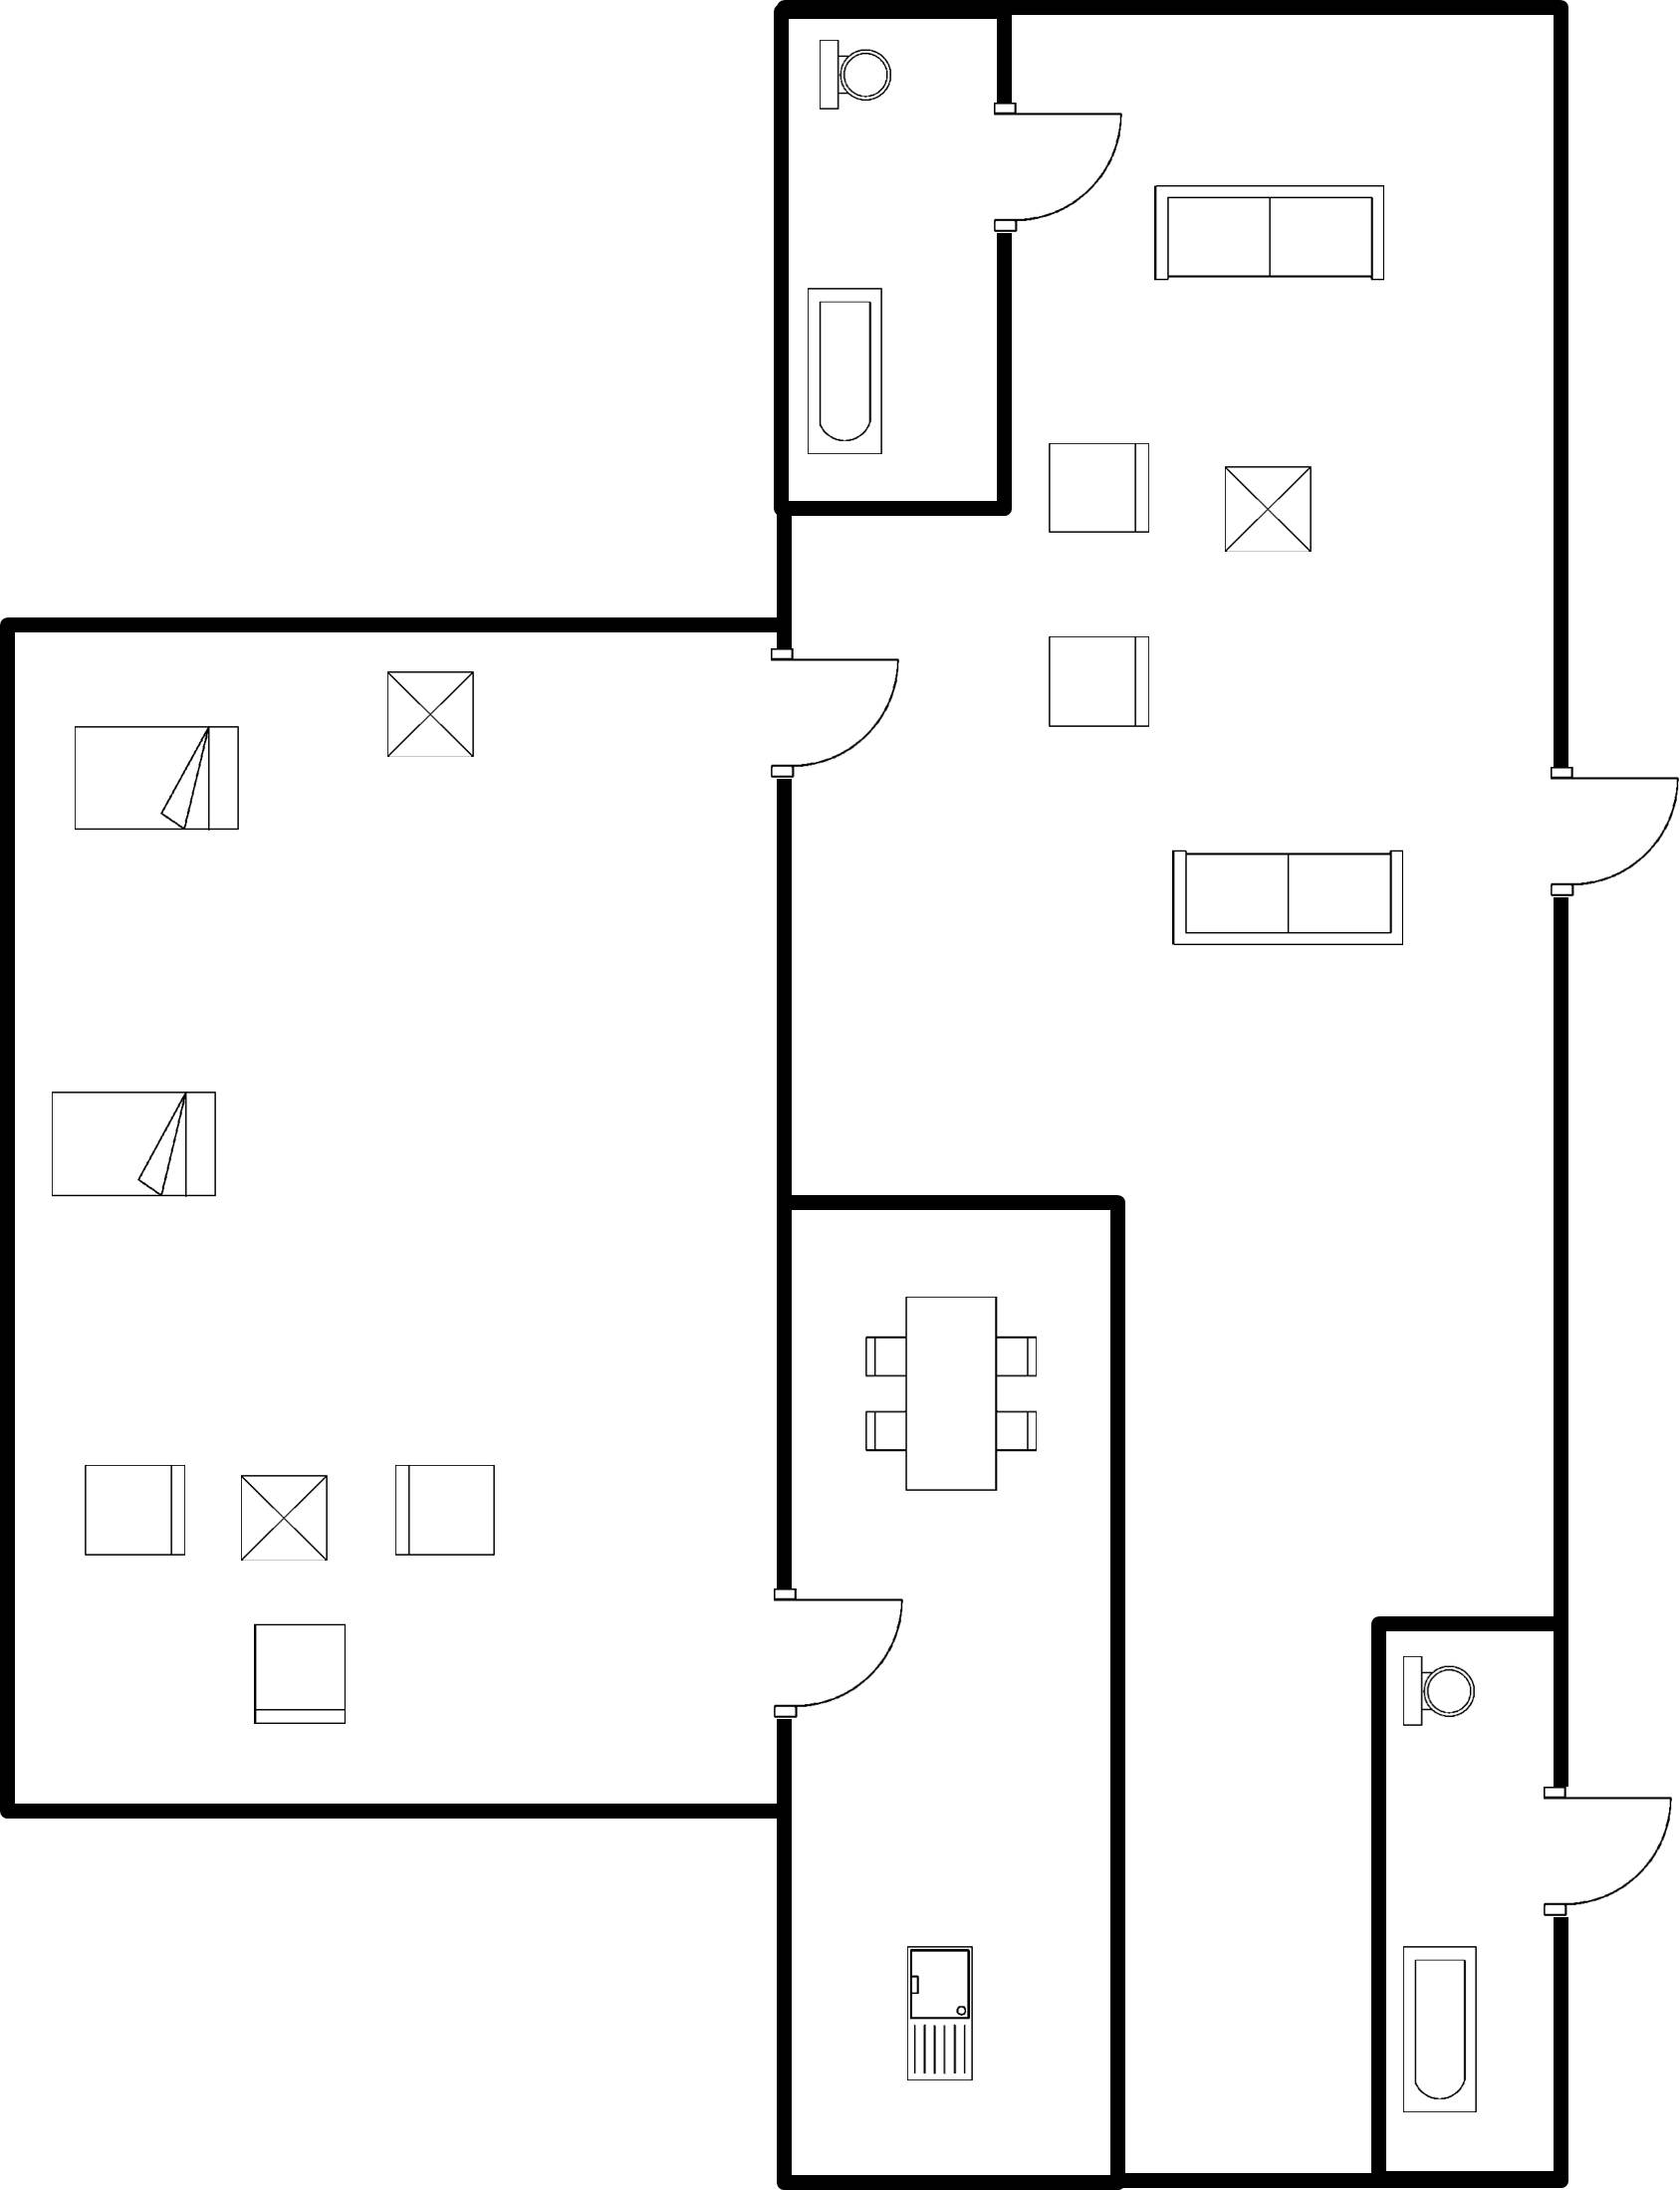bed: (66, 707, 247, 852), (42, 1080, 230, 1215)
coffee_table: (368, 650, 488, 781), (1211, 438, 1329, 564), (221, 1462, 343, 1564)
dining_table: (849, 1279, 1053, 1510)
large_sink: (804, 25, 905, 126), (1392, 1642, 1484, 1750)
large_sofa: (1132, 169, 1403, 296), (1156, 835, 1416, 964)
sink: (890, 1930, 990, 2096)
small_sofa: (239, 1607, 362, 1744), (1038, 622, 1169, 748), (70, 1454, 199, 1578), (381, 1449, 505, 1578), (1038, 427, 1161, 549)
tub: (1394, 1934, 1501, 2129), (797, 274, 901, 468)
